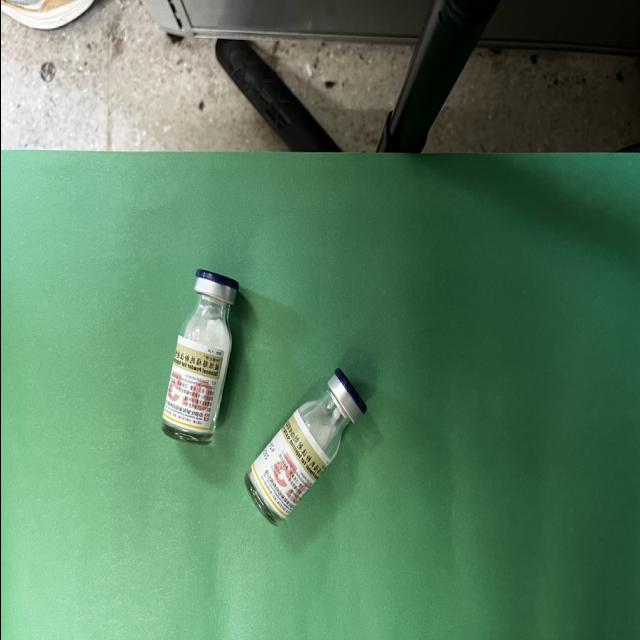Vials: (244, 367, 367, 526), (160, 268, 238, 445)
